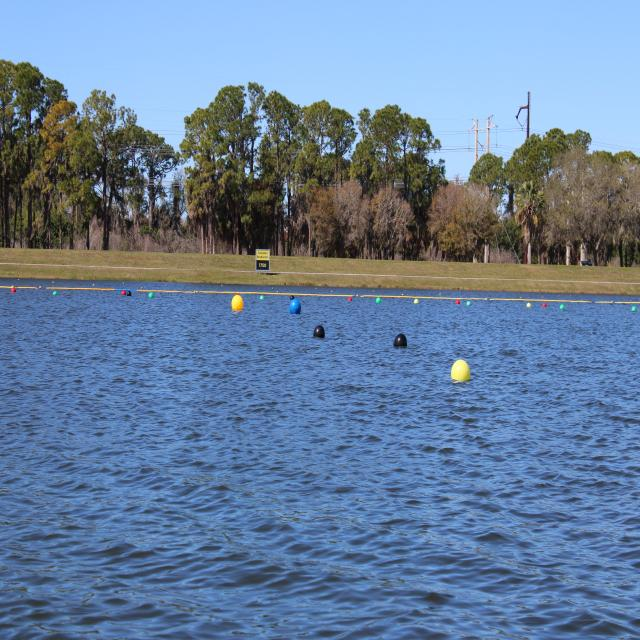black-buoy: (314, 322, 326, 339), (393, 335, 406, 350)
blue-buoy: (290, 297, 302, 315)
green-buoy: (148, 292, 154, 300), (54, 290, 60, 297), (632, 307, 638, 314), (377, 296, 382, 304), (560, 304, 565, 312), (262, 294, 267, 301)
red-buoy: (10, 286, 16, 294), (120, 290, 126, 296)
yellow-buoy: (449, 358, 470, 382), (233, 295, 245, 314)
